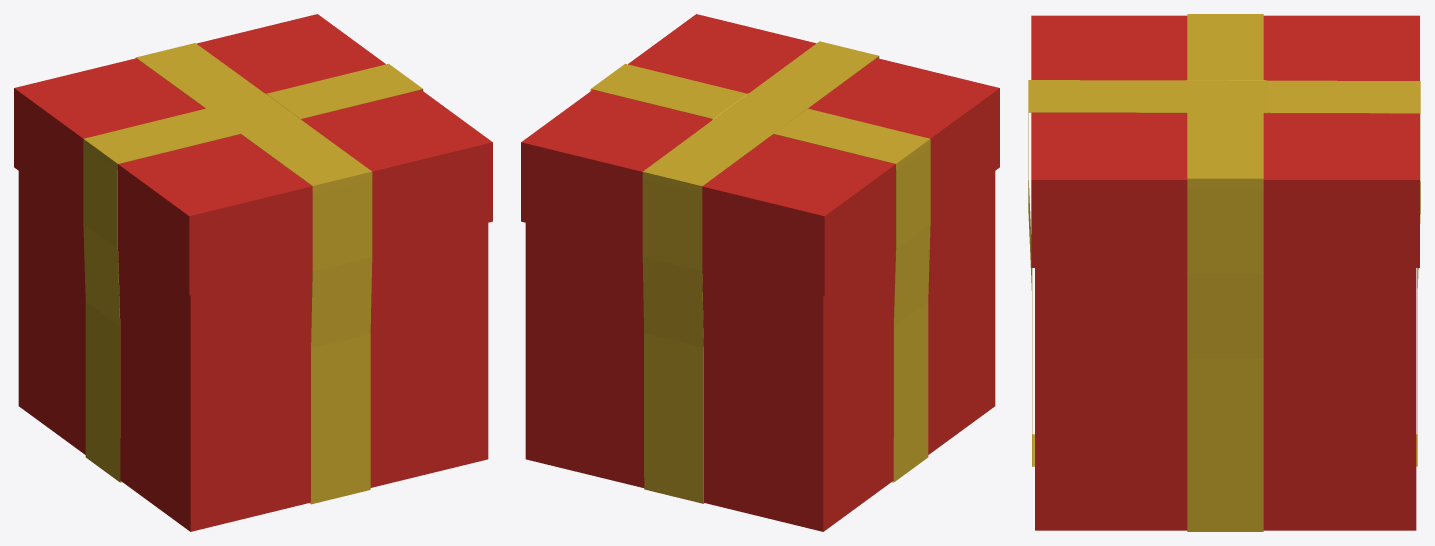
The model's file is gift_box.fbx.
3 views of the same model, side by side, from view 1: azimuth 30°, elevation 25°; view 2: azimuth 150°, elevation 25°; view 3: azimuth 270°, elevation 25° (orthographic). The views are drawn at different scales.
Parts seen in each view (by area): view 1: Cube.001, Cube.000, Plane; view 2: Cube.001, Cube.000, Plane; view 3: Cube.001, Cube.000, Plane.
Part boxes in pixels (x1,y1,x2,y2): Cube.001: (18, 171, 488, 531); Cube.000: (14, 14, 492, 295); Plane: (83, 43, 423, 504); Cube.001: (525, 171, 995, 531); Cube.000: (521, 14, 999, 295); Plane: (590, 41, 930, 503); Cube.001: (1035, 268, 1416, 530); Cube.000: (1031, 15, 1419, 267); Plane: (1028, 14, 1420, 531).
Bounding box in the file's own units: 205 × 205 × 206.
